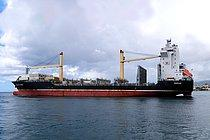Ship: (9, 37, 199, 102)
